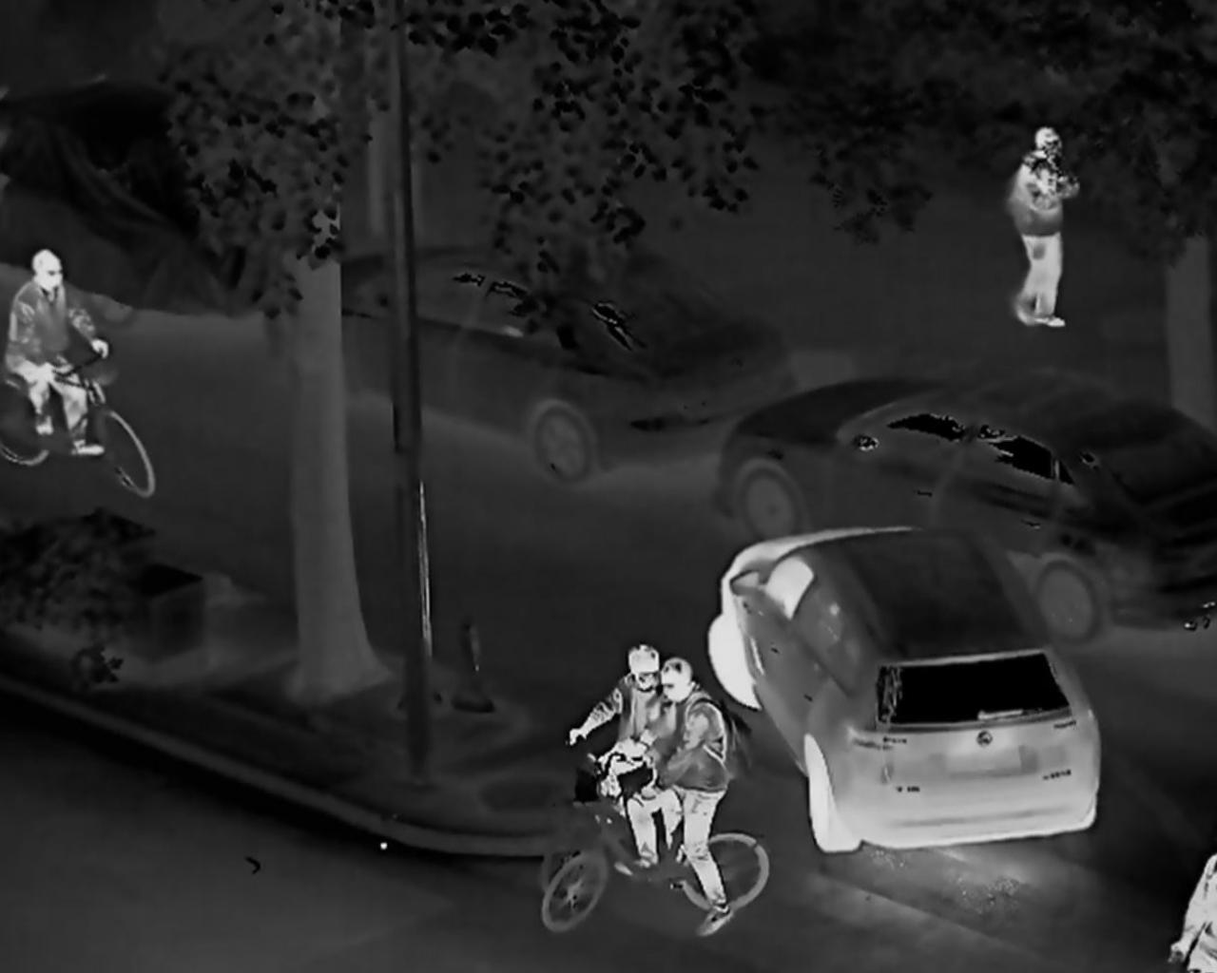person: (629, 636, 741, 955), (556, 608, 678, 898), (10, 240, 106, 459), (1002, 113, 1079, 347)
